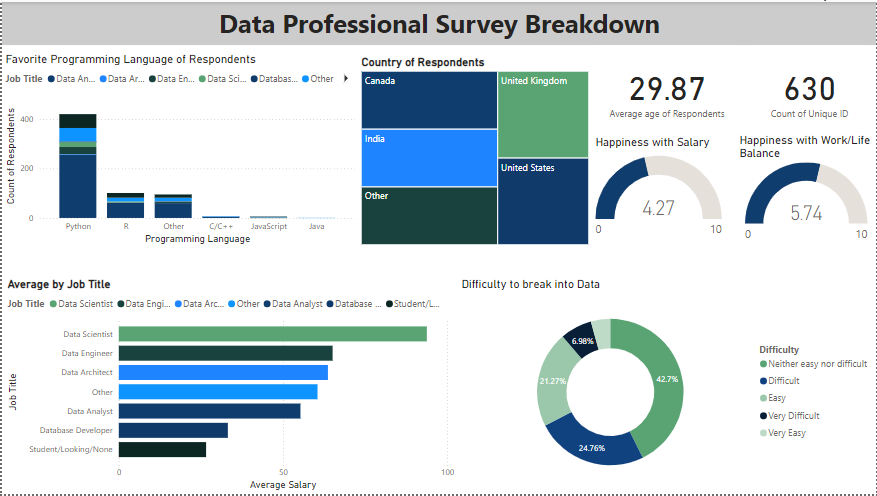

The dashboard page shown, as its layout file describes it:
{"tool":"powerbi","page":{"name":"Page 1","canvas":[1280,720],"ordinal":0},"visuals":[{"type":"textbox","box":[0,0,1280,62.5],"z":0},{"type":"card","fields":{"Values":["CountNonNull(Data Professional Survey.Unique ID)"]},"box":[1102.7,63.2,159.8,131.7],"z":1000},{"type":"card","fields":{"Values":["Avg(Data Professional Survey.Q10 - Current Age)"]},"box":[872.6,63.2,201.9,131.7],"z":2000},{"type":"barChart","title":"Average by Job Title","fields":{"Y":["Avg(Data Professional Survey.Average Salary)"],"Category":["Data Professional Survey.Q1 - Which Title Best Fits your Current Role?"],"Series":["Data Professional Survey.Q1 - Which Title Best Fits your Current Role?"]},"box":[3.5,402.1,663.7,317.8],"z":3000},{"type":"columnChart","title":"Favorite Programming Language of Respondents","fields":{"Category":["Data Professional Survey.Q5 - Favorite Programming Language.1"],"Series":["Data Professional Survey.Q1 - Which Title Best Fits your Current Role?"],"Y":["CountNonNull(Data Professional Survey.Q1 - Which Title Best Fits your Current Role?)"]},"box":[0,73.7,521.5,286.2],"z":4000},{"type":"treemap","title":"Country of Respondents","fields":{"Values":["Count(Data Professional Survey.Q11 - Which Country do you live in?.1)"],"Details":["Data Professional Survey.Q11 - Which Country do you live in?.1"]},"box":[521.5,77.3,342.4,282.7],"z":5000},{"type":"donutChart","title":"Difficulty to break into Data","fields":{"Y":["CountNonNull(Data Professional Survey.Q7 - How difficult was it for you to break into Data?)"],"Category":["Data Professional Survey.Q7 - How difficult was it for you to break into Data?"]},"box":[667.2,402.1,612.8,317.8],"z":6000},{"type":"gauge","title":"Happiness with Salary","fields":{"MinValue":["Min(Data Professional Survey.Q6 - How Happy are you in your Current Position with the following? (Salary))"],"MaxValue":["Max(Data Professional Survey.Q6 - How Happy are you in your Current Position with the following? (Salary))"],"Y":["Avg(Data Professional Survey.Q6 - How Happy are you in your Current Position with the following? (Salary))"]},"box":[863.9,194.9,194.9,165],"z":7000},{"type":"gauge","title":"Happiness with Work/Life Balance","fields":{"Y":["Avg(Data Professional Survey.Q6 - How Happy are you in your Current Position with the following? (Work/Life Balance))"],"MinValue":["Min(Data Professional Survey.Q6 - How Happy are you in your Current Position with the following? (Work/Life Balance))"],"MaxValue":["Max(Data Professional Survey.Q6 - How Happy are you in your Current Position with the following? (Work/Life Balance))"]},"box":[1074.6,191.4,205.4,168.6],"z":8000}]}

Visuals, with their boxes in screenshot pixels (x1, y1, x2, y2), scaled from the page's 1280x720 canvas onto the 877x496 screenshot:
textbox: rect(0, 0, 876, 43)
card - CountNonNull(Data Professional Survey.Unique ID): rect(756, 44, 865, 134)
card - Avg(Data Professional Survey.Q10 - Current Age): rect(598, 44, 736, 134)
"Average by Job Title" barChart: rect(2, 277, 457, 495)
"Favorite Programming Language of Respondents" columnChart: rect(0, 51, 357, 248)
"Country of Respondents" treemap: rect(357, 53, 592, 248)
"Difficulty to break into Data" donutChart: rect(457, 277, 876, 495)
"Happiness with Salary" gauge: rect(592, 134, 725, 248)
"Happiness with Work/Life Balance" gauge: rect(736, 132, 876, 248)
